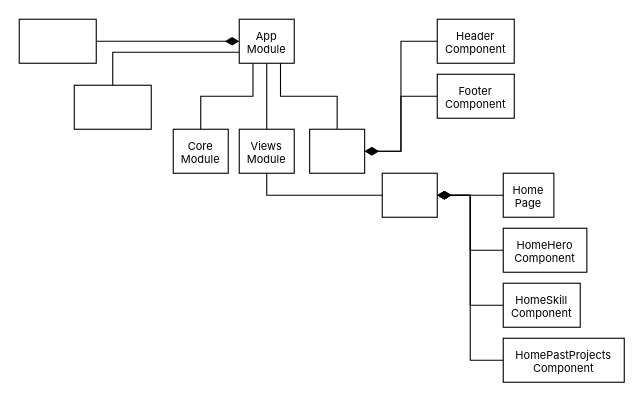
The diagram is 644 pixels wide and 402 high, and some of its shapes have lost their labels. Here are the shapes that lost their labels. From the top down, the centre of each, then its label:
At pixel 57 40: "App Component".
At pixel 112 106: "AppRouting Module".
At pixel 337 150: "Shared Module".
At pixel 409 194: "Home Module".
